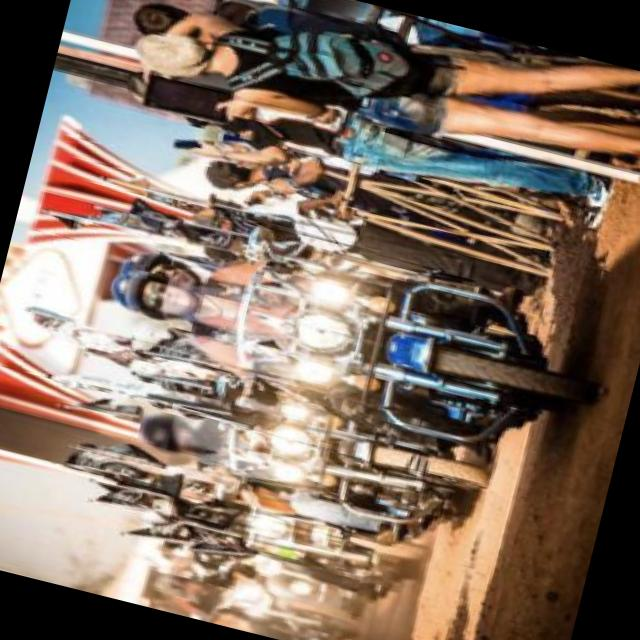With Helmet: (110, 264, 198, 326), (117, 240, 204, 296), (135, 406, 213, 464)
